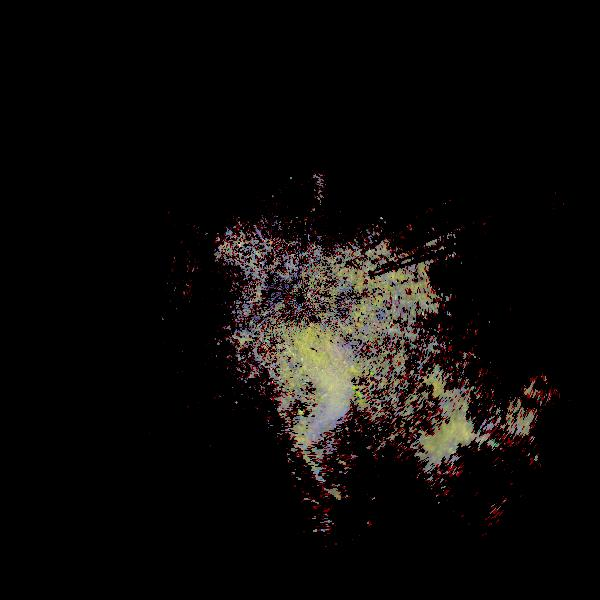roost: (237, 319, 369, 451)
